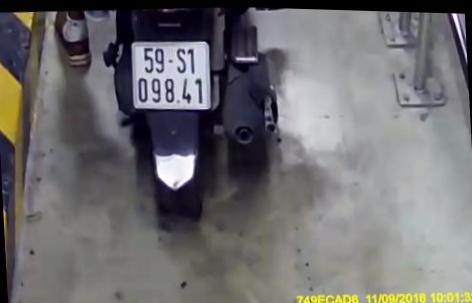LP: (127, 32, 216, 113)
